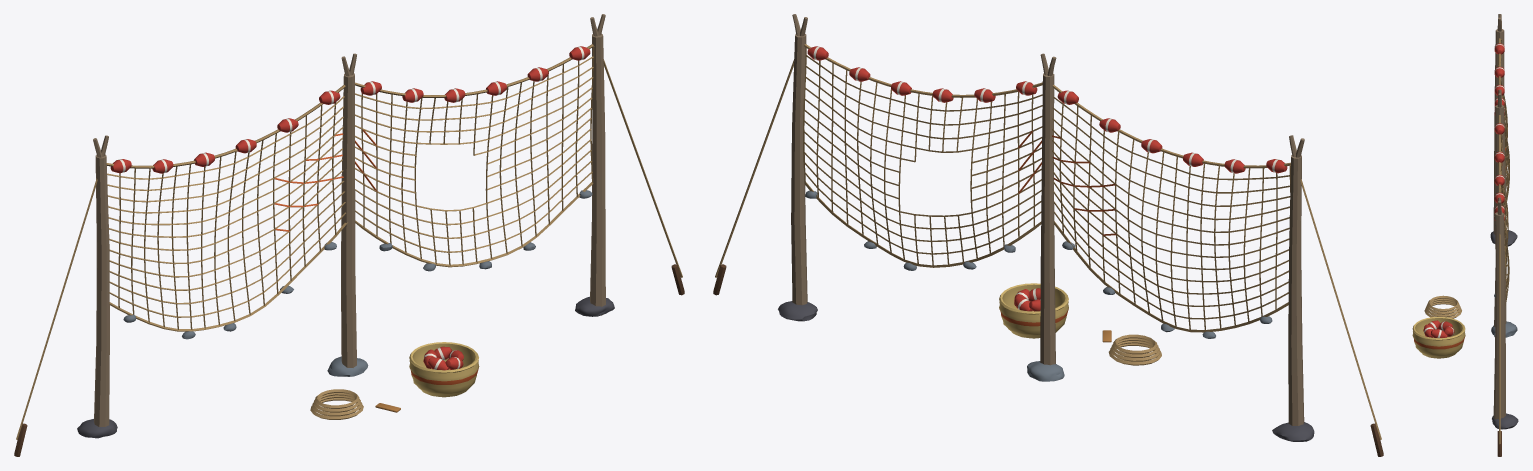
Rendered from deco_net_poles.fbx.
The picture shows the model from 3 angles, left to right: view 1: azimuth 30°, elevation 25°; view 2: azimuth 150°, elevation 25°; view 3: azimuth 270°, elevation 25°; orthographic projection. The views are drawn at different scales.
Parts seen in each view (by area): view 1: NetPoles_Net, NetPoles_Poles, NetPoles_Basket, NetPoles_Floats; view 2: NetPoles_Net, NetPoles_Poles, NetPoles_Basket, NetPoles_Floats; view 3: NetPoles_Poles, NetPoles_Basket, NetPoles_Net, NetPoles_Floats.
Boxes of the visible parts, x1,y1,x2,y2 form: NetPoles_Net: (106, 44, 594, 339); NetPoles_Poles: (14, 14, 684, 456); NetPoles_Basket: (310, 342, 479, 419); NetPoles_Floats: (110, 46, 590, 173); NetPoles_Net: (803, 44, 1290, 338); NetPoles_Poles: (713, 14, 1383, 456); NetPoles_Basket: (999, 283, 1161, 365); NetPoles_Floats: (807, 46, 1287, 173); NetPoles_Poles: (1490, 14, 1518, 456); NetPoles_Basket: (1412, 295, 1465, 358); NetPoles_Net: (1494, 38, 1509, 336); NetPoles_Floats: (1494, 43, 1504, 220).
Bounding box in the file's own units: 675 × 308 × 122.
